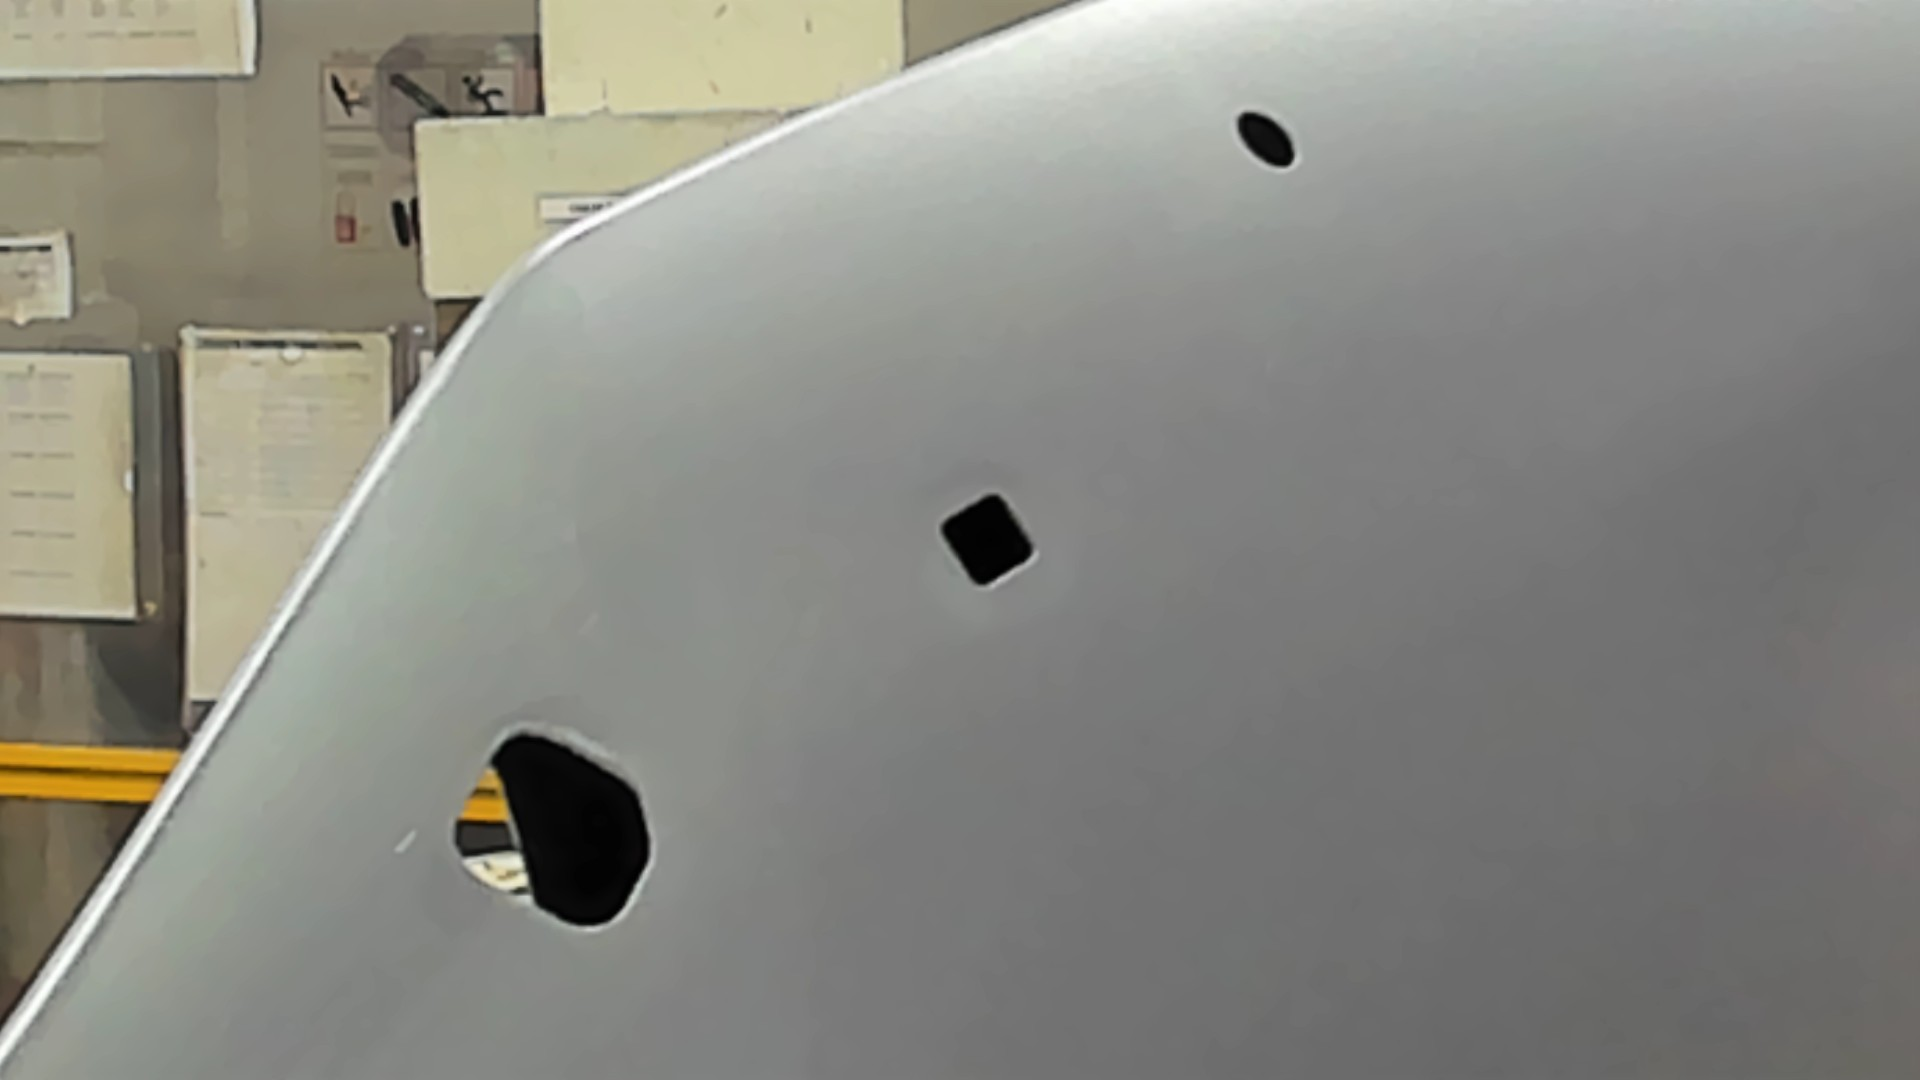chico: (1228, 103, 1304, 174)
grande: (440, 723, 659, 940)
mediano: (934, 483, 1039, 596)
